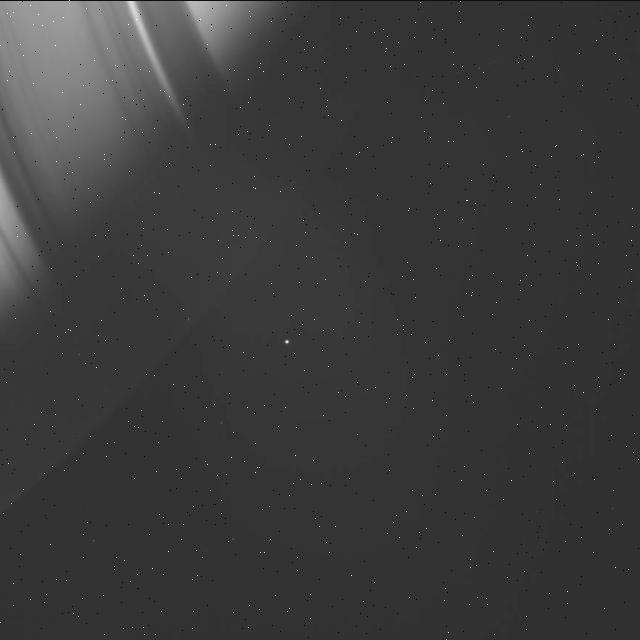Saturn: (0, 0, 423, 566)
